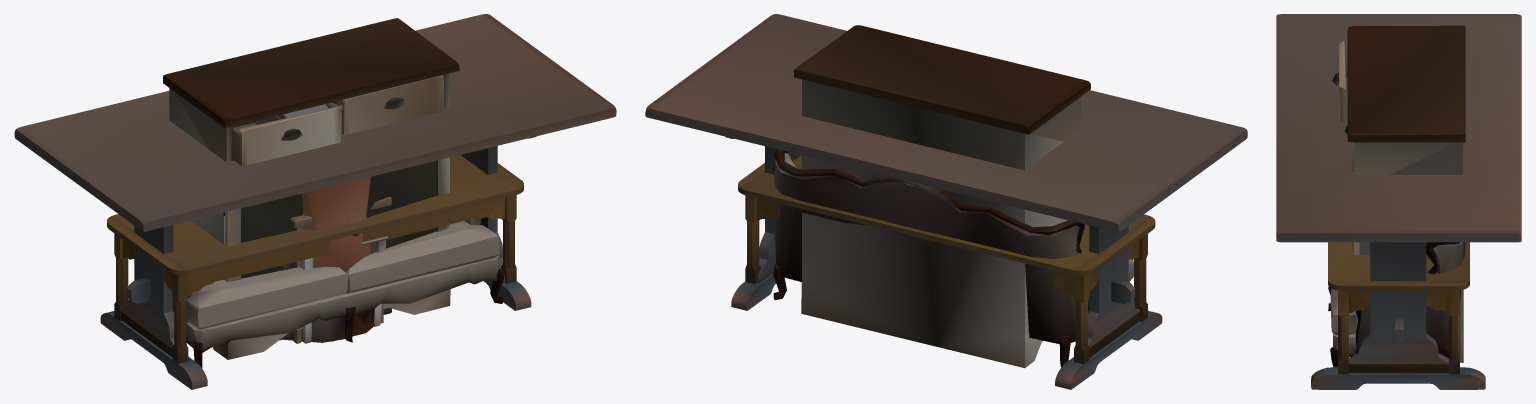
File: kit.glb
3 views of the same model, side by side, from view 1: azimuth 30°, elevation 25°; view 2: azimuth 150°, elevation 25°; view 3: azimuth 270°, elevation 25° (orthographic). The views are drawn at different scales.
Visible parts, largest first — view 1: painted_wooden_table, painted_wooden_cabinet, Sofa_01, WoodenTable_01, barrel_stove, painted_wooden_chair_01, painted_wooden_nightstand; view 2: painted_wooden_cabinet, painted_wooden_table, Sofa_01, WoodenTable_01; view 3: painted_wooden_table, painted_wooden_cabinet, WoodenTable_01, Sofa_01.
Part boxes in pixels (bbox=[...]): painted_wooden_table: bbox=[14, 14, 616, 389]; painted_wooden_cabinet: bbox=[163, 18, 459, 359]; Sofa_01: bbox=[173, 217, 503, 367]; WoodenTable_01: bbox=[107, 155, 523, 363]; barrel_stove: bbox=[283, 177, 374, 342]; painted_wooden_chair_01: bbox=[300, 236, 387, 343]; painted_wooden_nightstand: bbox=[290, 196, 391, 343]; painted_wooden_cabinet: bbox=[794, 25, 1090, 368]; painted_wooden_table: bbox=[645, 14, 1247, 389]; Sofa_01: bbox=[773, 149, 1133, 367]; WoodenTable_01: bbox=[738, 155, 1155, 364]; painted_wooden_table: bbox=[1276, 14, 1521, 389]; painted_wooden_cabinet: bbox=[1332, 25, 1465, 362]; WoodenTable_01: bbox=[1328, 242, 1469, 374]; Sofa_01: bbox=[1328, 242, 1465, 367].
Size of the model in its own units: 2.41 by 1.19 by 1.14.
